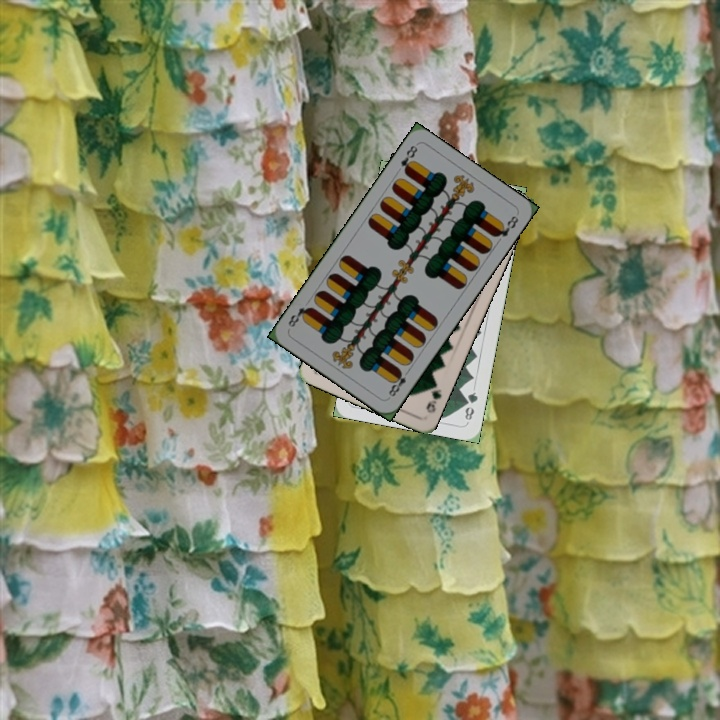E8: (384, 365, 413, 399), (397, 141, 420, 176)
G8: (461, 388, 480, 425)
G9: (422, 376, 444, 416)
